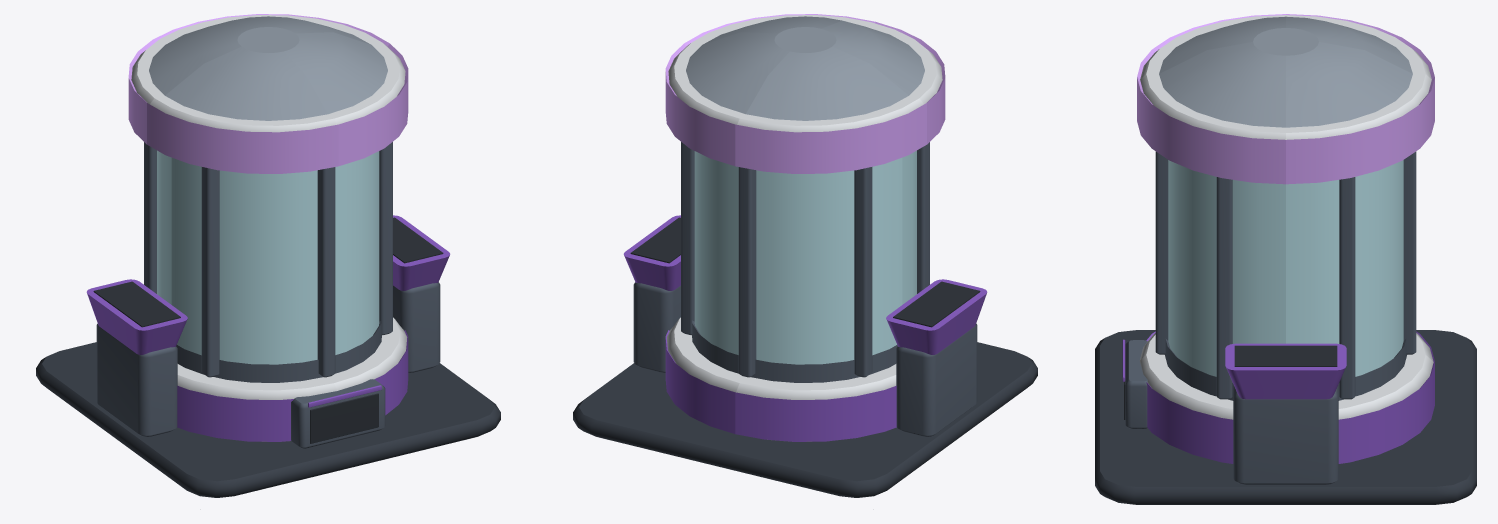
The model's file is fabricateur_universel.glb.
3 views of the same model, side by side, from view 1: azimuth 30°, elevation 25°; view 2: azimuth 150°, elevation 25°; view 3: azimuth 270°, elevation 25° (orthographic). The views are drawn at different scales.
Parts seen in each view (by area): view 1: vitre_chambre_av_vitre.002, pieces_av_sombre.006, pieces_av_fonce.008, pieces_av_gris.008, voyant_fab_av_plasma.002, pieces_av_violet.002, pieces_av_blanc.004, pieces_av_grille.004; view 2: vitre_chambre_av_vitre.002, pieces_av_sombre.006, pieces_av_fonce.008, pieces_av_gris.008, pieces_av_violet.002, voyant_fab_av_plasma.002, pieces_av_blanc.004, pieces_av_grille.004; view 3: vitre_chambre_av_vitre.002, pieces_av_fonce.008, pieces_av_sombre.006, pieces_av_gris.008, voyant_fab_av_plasma.002, pieces_av_violet.002, pieces_av_blanc.004, pieces_av_grille.004.
Part boxes in pixels (bbox=[...]): vitre_chambre_av_vitre.002: bbox=[157, 150, 379, 364]; pieces_av_sombre.006: bbox=[96, 142, 440, 448]; pieces_av_fonce.008: bbox=[36, 342, 500, 497]; pieces_av_gris.008: bbox=[149, 16, 387, 120]; voyant_fab_av_plasma.002: bbox=[128, 14, 408, 173]; pieces_av_violet.002: bbox=[86, 215, 450, 441]; pieces_av_blanc.004: bbox=[131, 15, 407, 441]; pieces_av_grille.004: bbox=[93, 217, 443, 443]; vitre_chambre_av_vitre.002: bbox=[694, 150, 916, 364]; pieces_av_sombre.006: bbox=[633, 142, 977, 436]; pieces_av_fonce.008: bbox=[573, 342, 1037, 497]; pieces_av_gris.008: bbox=[686, 16, 924, 120]; pieces_av_violet.002: bbox=[623, 215, 987, 441]; voyant_fab_av_plasma.002: bbox=[665, 14, 945, 173]; pieces_av_blanc.004: bbox=[666, 15, 942, 441]; pieces_av_grille.004: bbox=[630, 217, 980, 327]; vitre_chambre_av_vitre.002: bbox=[1168, 160, 1403, 376]; pieces_av_fonce.008: bbox=[1095, 330, 1476, 504]; pieces_av_sombre.006: bbox=[1125, 151, 1416, 484]; pieces_av_gris.008: bbox=[1159, 16, 1412, 127]; voyant_fab_av_plasma.002: bbox=[1137, 14, 1434, 184]; pieces_av_violet.002: bbox=[1122, 331, 1434, 463]; pieces_av_blanc.004: bbox=[1139, 15, 1433, 419]; pieces_av_grille.004: bbox=[1124, 345, 1337, 419].
Bounding box in the file's own units: 1.5 × 1.61 × 1.5.
